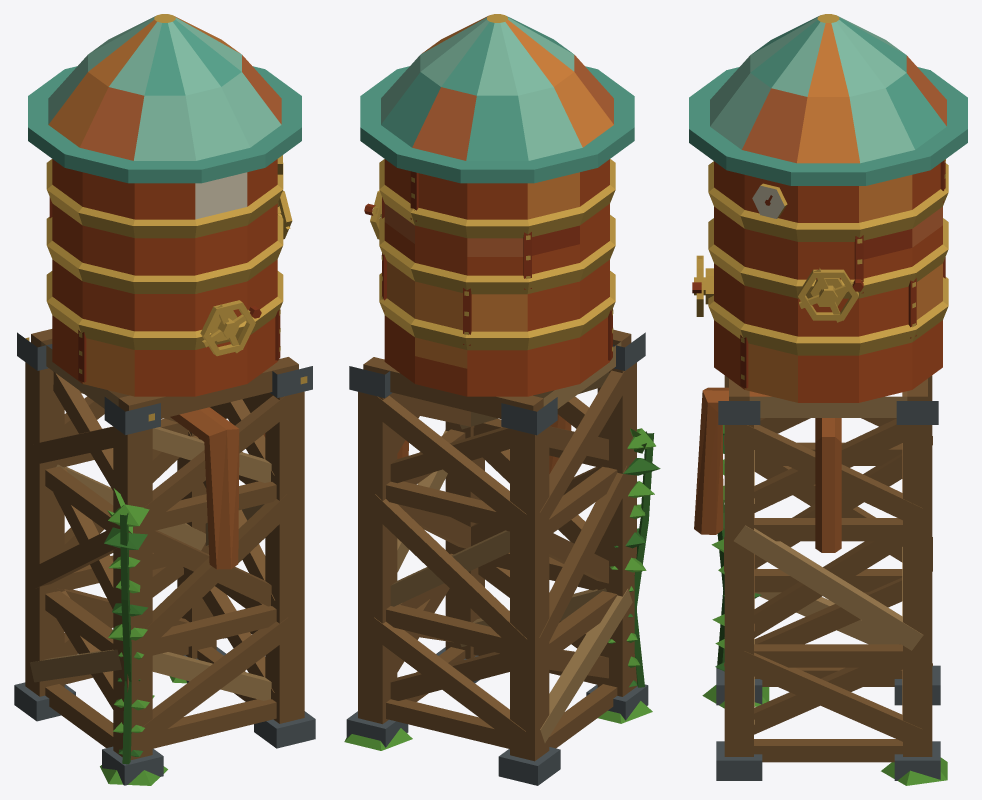
The model's file is brass-water-tower-b0c6d9.glb.
3 views of the same model, side by side, from view 1: azimuth 30°, elevation 25°; view 2: azimuth 150°, elevation 25°; view 3: azimuth 270°, elevation 25° (orthographic).
Visible parts, largest first — view 1: tower, valve-wheel-front-mesh; view 2: tower; view 3: tower, valve-wheel-right-mesh, valve-wheel-front-mesh.
Boxes of the visible parts, x1,y1,x2,y2 form: tower: (14,14,315,785); valve-wheel-front-mesh: (200,300,261,356); tower: (344,14,660,785); tower: (689,14,967,785); valve-wheel-right-mesh: (798,268,863,322); valve-wheel-front-mesh: (692,255,705,316).
Bounding box in the file's own units: 4 × 11.32 × 4.
